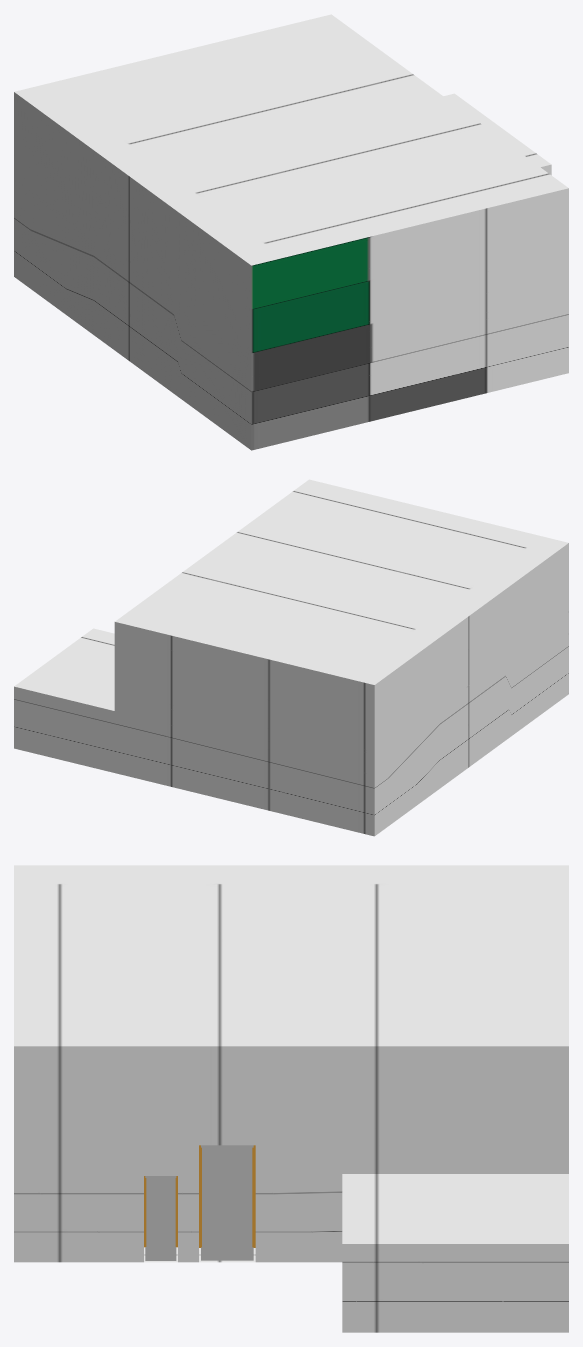
File: LobbyTemplo.fbx
3 views of the same model, one above another, from view 1: azimuth 30°, elevation 25°; view 2: azimuth 150°, elevation 25°; view 3: azimuth 270°, elevation 25° (orthographic). The views are drawn at different scales.
Parts seen in each view (by area): view 1: Templo; view 2: Templo; view 3: Templo.
Boxes of the visible parts, bbox=[...] form: Templo: bbox=[14, 14, 568, 450]; Templo: bbox=[14, 479, 568, 836]; Templo: bbox=[14, 865, 568, 1332].
Bounding box in the file's own units: 6503 × 2667 × 6072.
